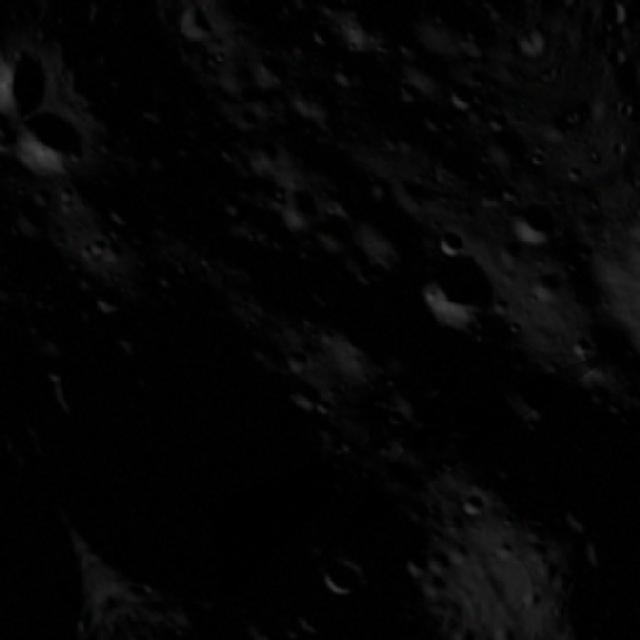crater: (0, 252, 365, 640), (298, 260, 416, 383), (478, 342, 578, 442), (410, 238, 505, 338), (542, 379, 636, 473), (347, 179, 433, 272), (8, 100, 95, 183), (497, 184, 577, 262), (334, 0, 414, 52), (233, 38, 295, 100), (97, 182, 155, 240), (309, 551, 365, 607), (282, 586, 340, 640), (437, 69, 489, 123), (444, 478, 498, 528), (301, 8, 347, 55), (473, 101, 518, 144), (166, 637, 205, 640)
